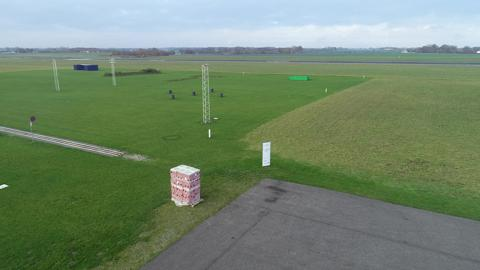RockwoolPallet: (169, 164, 202, 206)
